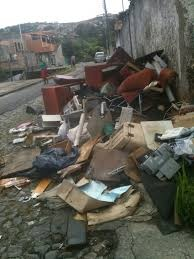rubble: (33, 62, 183, 208)
